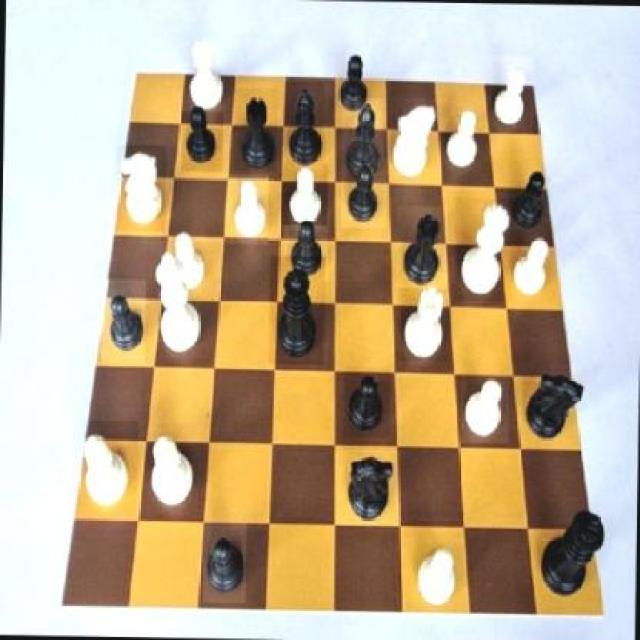bishop: (340, 97, 384, 181), (283, 82, 324, 168)
black-bishop: (537, 500, 614, 602)
black-king: (517, 363, 592, 446), (334, 450, 400, 528)
black-knight: (506, 149, 557, 232), (100, 279, 145, 363), (203, 522, 248, 602), (340, 157, 387, 228), (343, 368, 390, 438), (180, 96, 223, 172), (283, 211, 328, 281), (332, 44, 376, 114)
black-pawn: (268, 256, 324, 364)
black-queen: (396, 206, 448, 289), (234, 88, 278, 172)
black-rook: (74, 418, 140, 521), (143, 422, 197, 520)
white-bishop: (149, 240, 205, 357)
white-king: (389, 97, 445, 183), (116, 144, 166, 232)
white-knight: (411, 537, 463, 614), (488, 57, 534, 135), (508, 230, 554, 304), (460, 376, 510, 444), (165, 217, 209, 294), (441, 101, 484, 174), (224, 173, 268, 244), (282, 163, 328, 226)
white-pawn: (454, 198, 514, 302)
white-queen: (398, 286, 452, 362), (182, 28, 228, 112)
